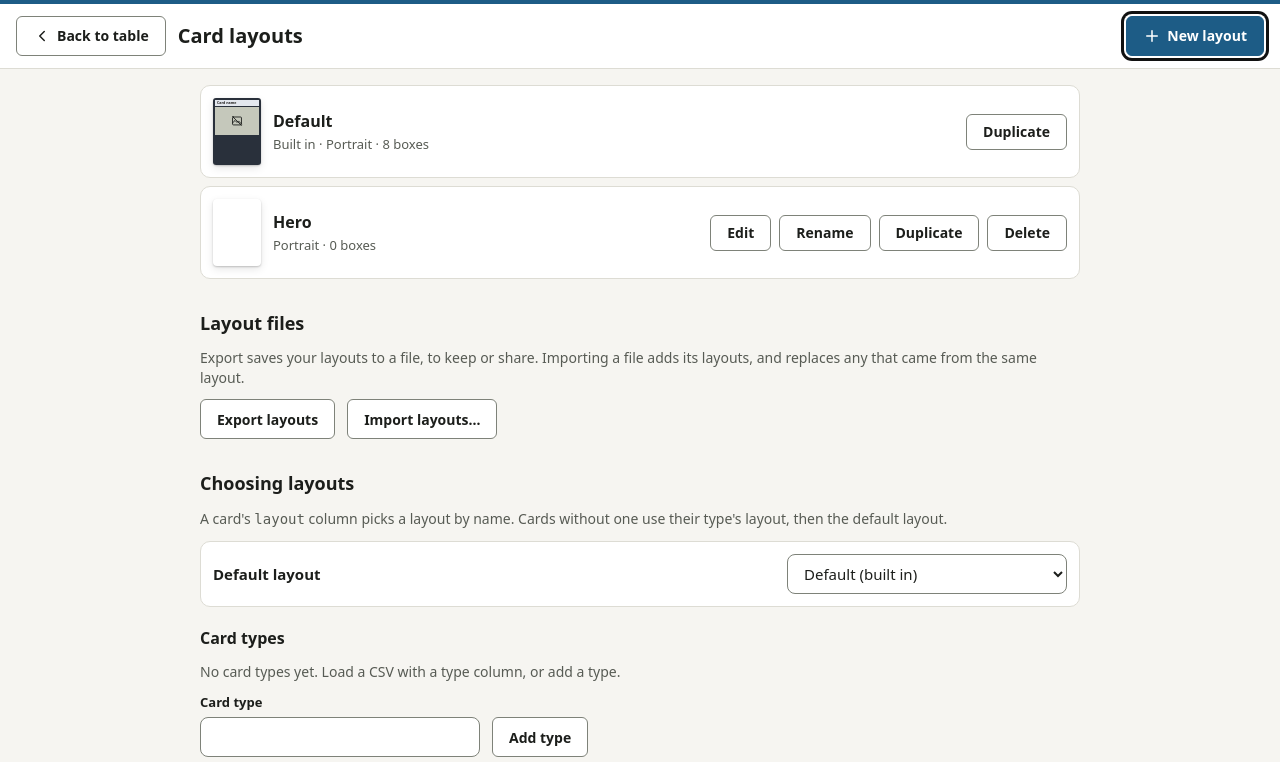
Scenario: LY-2 grid › snaps a box drawn by pointer to the grid
Click the button with aria-label "Edit Hero": (741, 232) top-left (710, 214), bottom-right (771, 250)
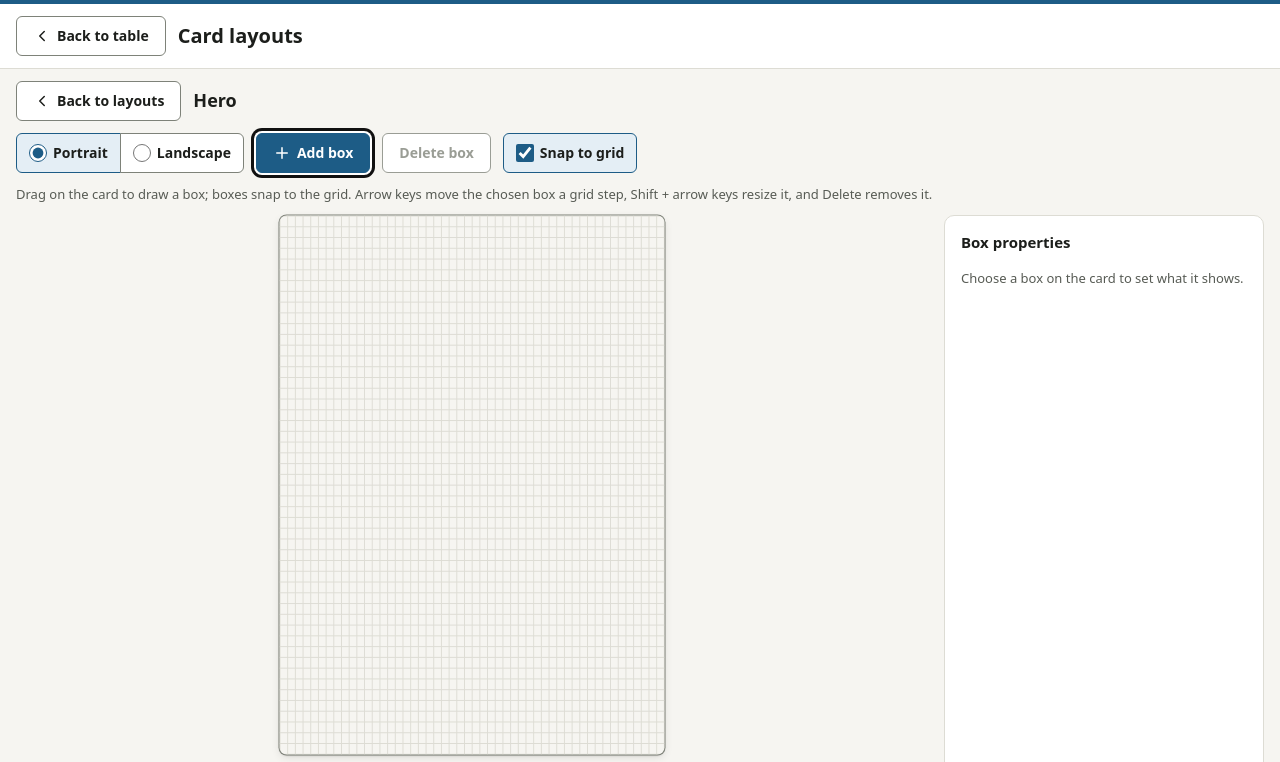
Press the mouse on the element named "Boxes on Hero": (472, 484) top-left (280, 215), bottom-right (664, 754)
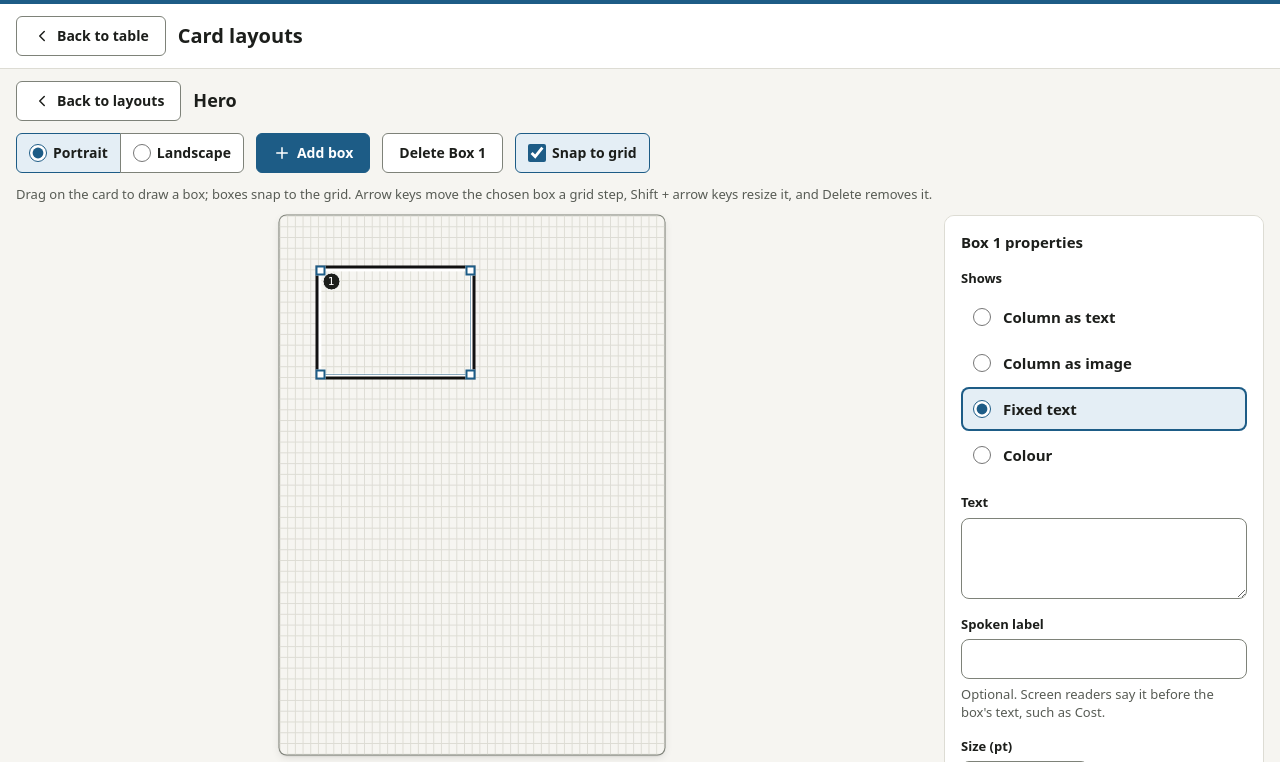
Expected: the button named "Box 1, empty, at 10% across, 10% down, 40% wide, 20% tall" is shown, top-left (320, 271), bottom-right (470, 375)
